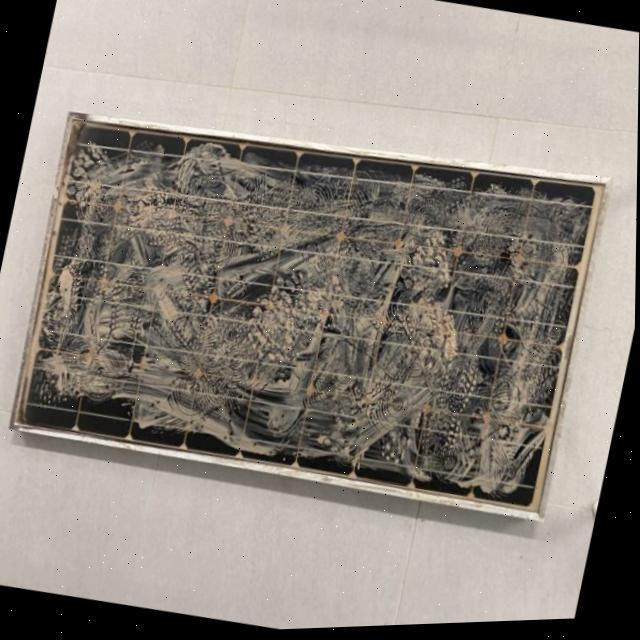Anomaly Solar Panel: (5, 94, 607, 534)
Surface Contaminant: (37, 125, 584, 490)
